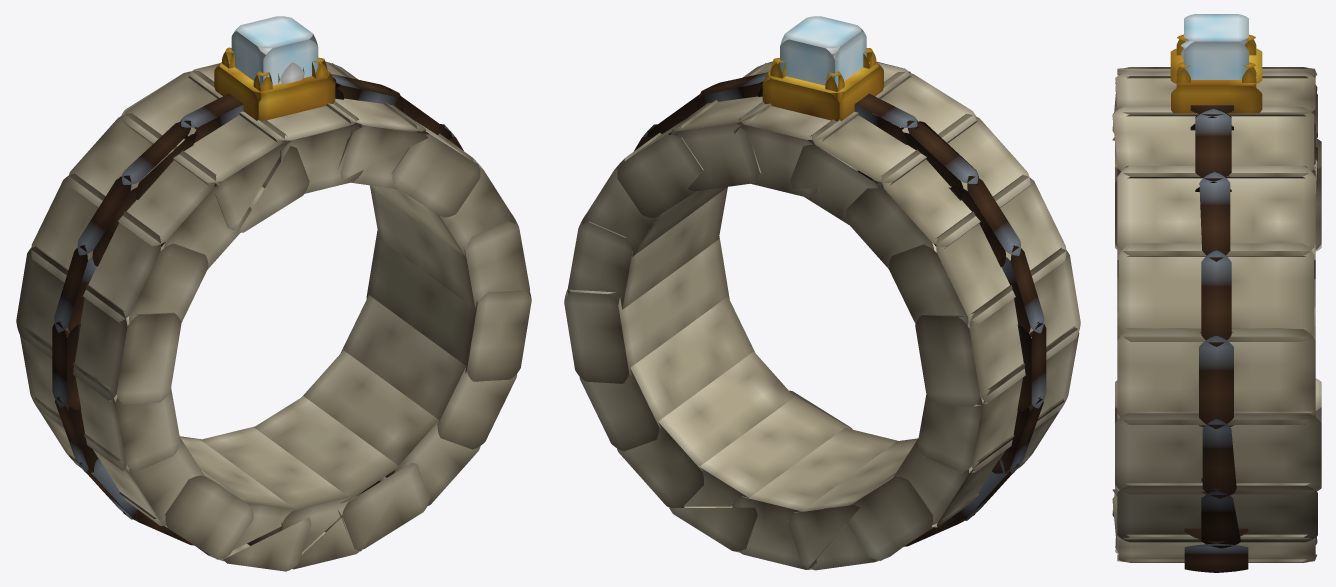
The model's file is bowstring_ring.obj.
3 renders of one model, left to right at view 1: azimuth 30°, elevation 25°; view 2: azimuth 150°, elevation 25°; view 3: azimuth 270°, elevation 25°, orthographic. The views are drawn at different scales.
Visible parts, largest first — view 1: lit, fire; view 2: lit, fire; view 3: lit, fire.
Boxes of the visible parts, bbox=[...] form: lit: bbox=[16, 47, 531, 571]; fire: bbox=[231, 16, 318, 85]; lit: bbox=[564, 48, 1080, 570]; fire: bbox=[780, 16, 866, 91]; lit: bbox=[1112, 34, 1321, 572]; fire: bbox=[1180, 14, 1248, 79].
Bounding box in the file's own units: 0.695 × 0.7737 × 0.2817.
